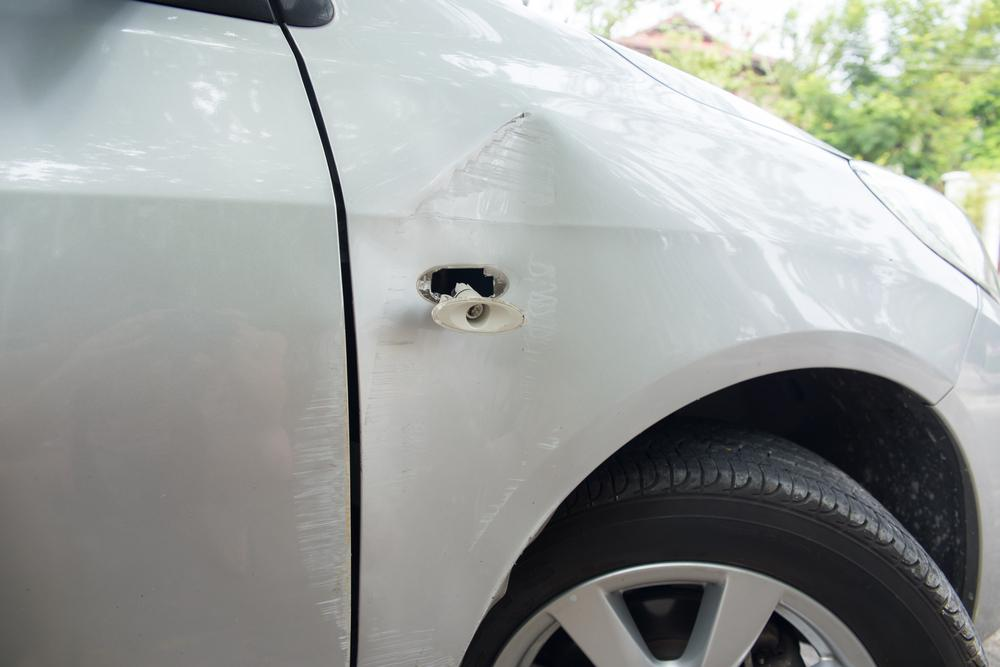dent: (436, 112, 592, 486)
scratch: (290, 336, 353, 661), (359, 337, 432, 507), (365, 620, 458, 667), (470, 472, 522, 549)
